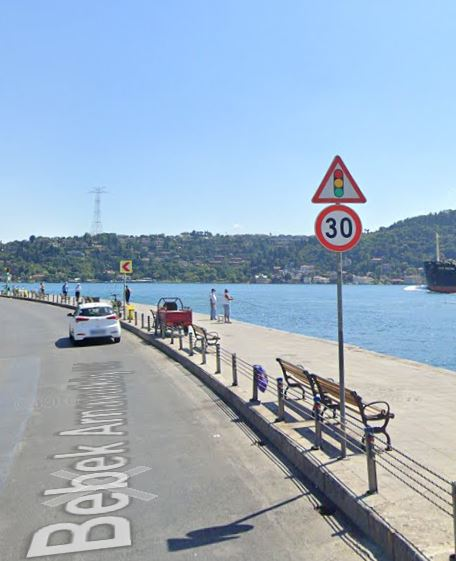30 Km Hiz Siniri: (312, 204, 363, 248)
Trafikisiklari: (310, 152, 363, 205)
